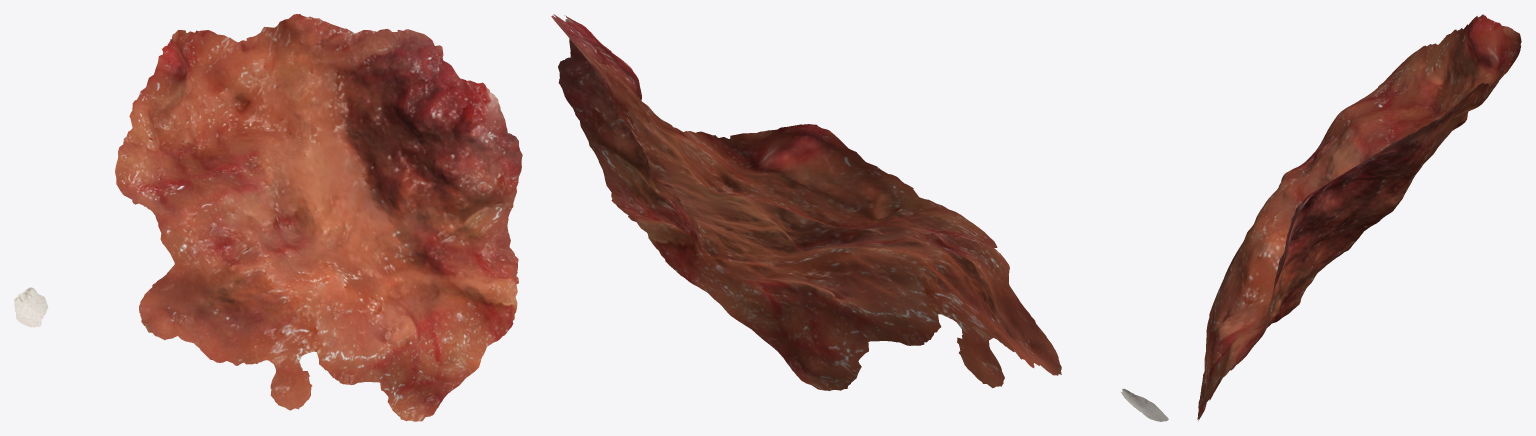
The model's file is flesh_lump_expansion.glb.
3 renders of one model, left to right at view 1: azimuth 30°, elevation 25°; view 2: azimuth 150°, elevation 25°; view 3: azimuth 270°, elevation 25°, orthographic. The views are drawn at different scales.
Parts seen in each view (by area): view 1: Object_2; view 2: Object_2; view 3: Object_2.
Part boxes in pixels (x1,y1,x2,y2): Object_2: (14,14,522,421); Object_2: (551,14,1168,421); Object_2: (1197,14,1521,420).
Size of the model in its own units: 2.34 by 1.51 by 1.3.
Materials: 1 (1 with a texture image).
